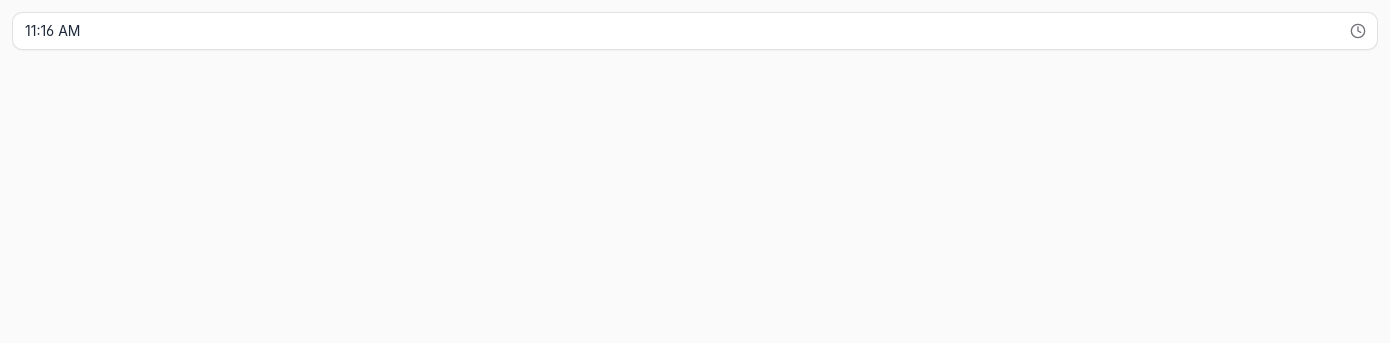
Scenario: TimePicker — formatting, sanitization, and UI › opens popup when clicking clock button and allows selecting preset
Later steps or results of the test are not shown.
Click the button named "Open time picker" at (1358, 31), box [1346,19,1370,43]
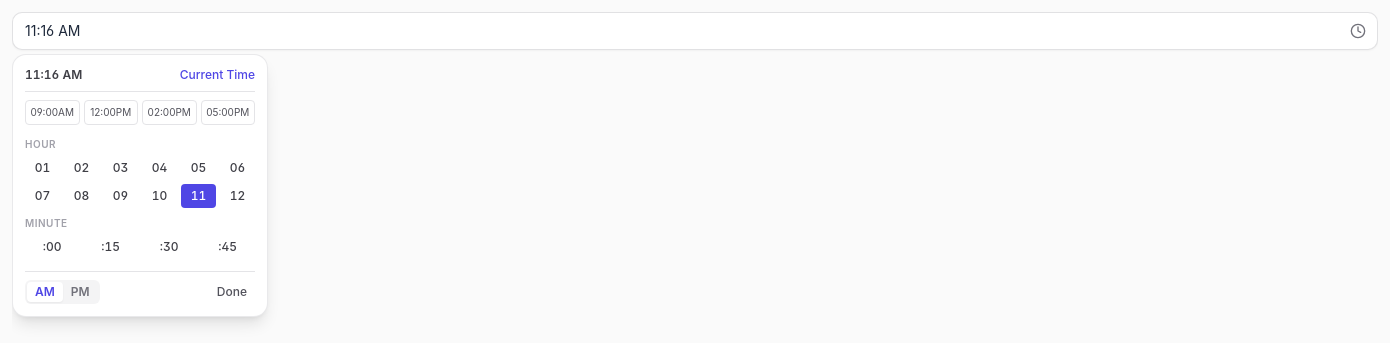
expect the button "12:00PM" is shown: met, box [84,100,138,125]
